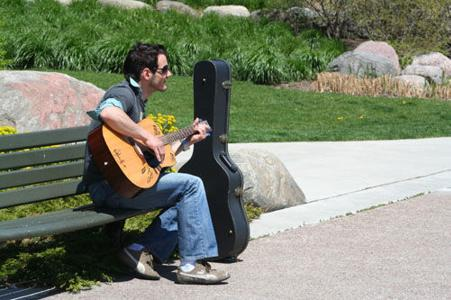person: (85, 42, 232, 284)
